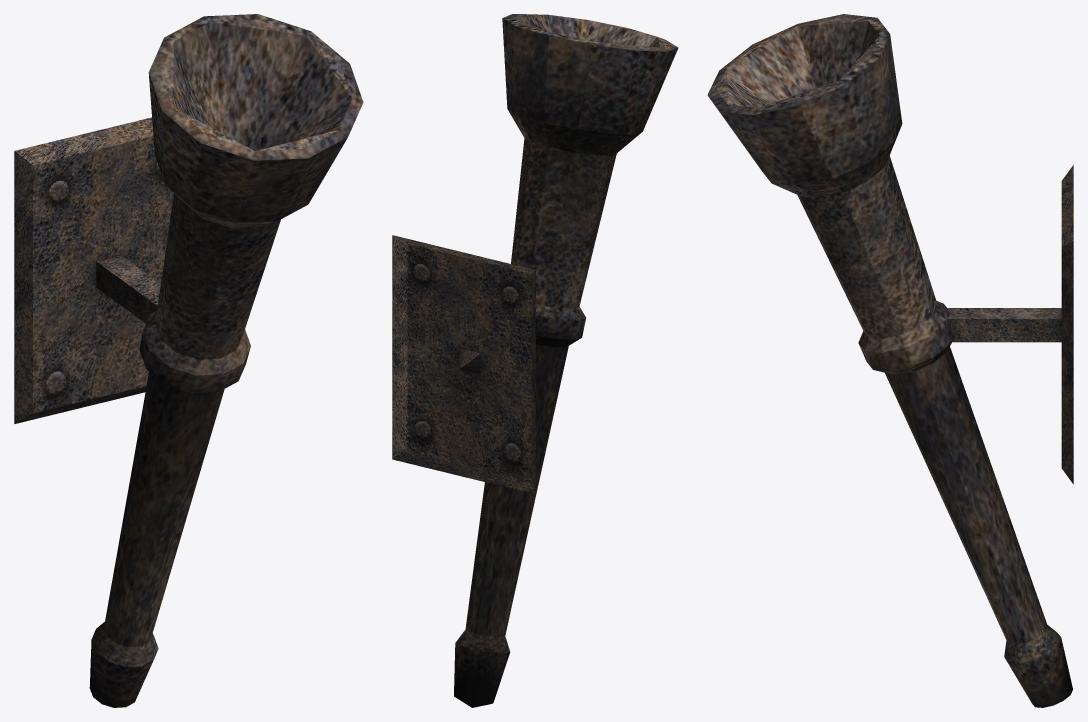
File: Torch_LOw_Poly.obj
The picture shows the model from 3 angles, left to right: view 1: azimuth 30°, elevation 25°; view 2: azimuth 150°, elevation 25°; view 3: azimuth 270°, elevation 25°; orthographic projection. The views are drawn at different scales.
Visible parts, largest first — view 1: Torch__Torch; view 2: Torch__Torch; view 3: Torch__Torch.
Boxes of the visible parts, x1,y1,x2,y2 form: Torch__Torch: (14,14,363,707); Torch__Torch: (392,14,678,707); Torch__Torch: (707,14,1073,707).
Bounding box in the file's own units: 0.3072 × 1.17 × 0.5783.
